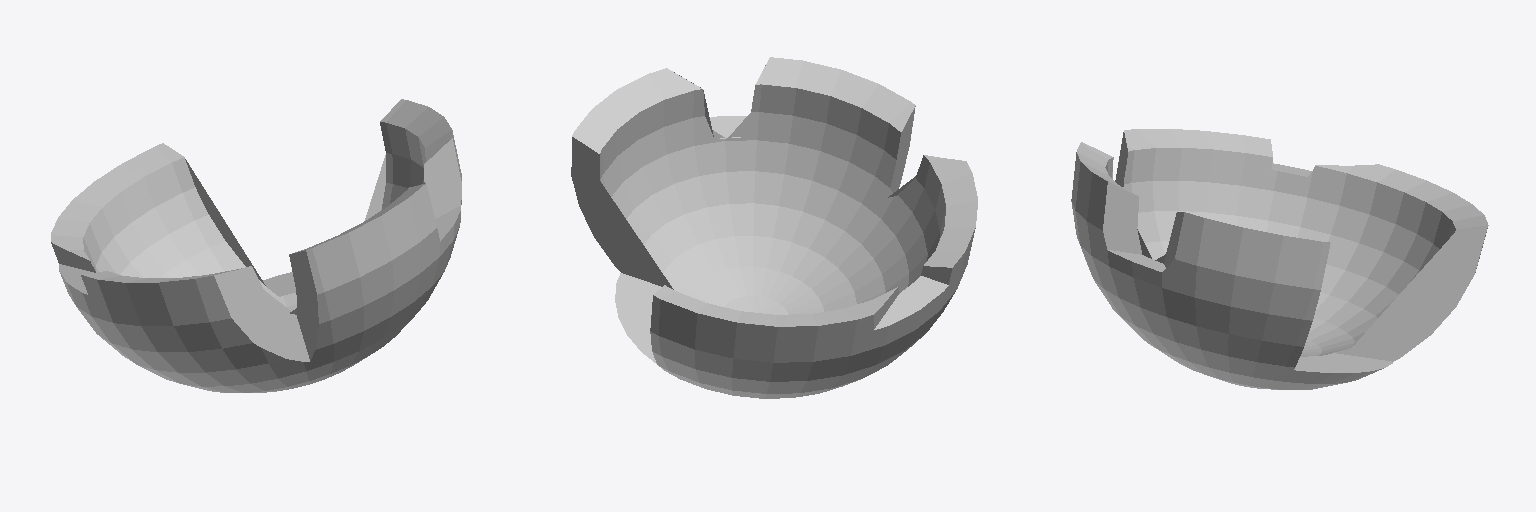
Rendered from Debris22.obj.
3 renders of one model, left to right at view 1: azimuth 30°, elevation 25°; view 2: azimuth 150°, elevation 25°; view 3: azimuth 270°, elevation 25°, orthographic.
Visible parts, largest first — view 1: Debris22; view 2: Debris22; view 3: Debris22.
Boxes of the visible parts, box(x1,y1,x2,y2) form: Debris22: box(51, 99, 461, 392); Debris22: box(571, 57, 977, 398); Debris22: box(1071, 129, 1488, 389).
Bounding box in the file's own units: 4.47 × 2.77 × 4.49.